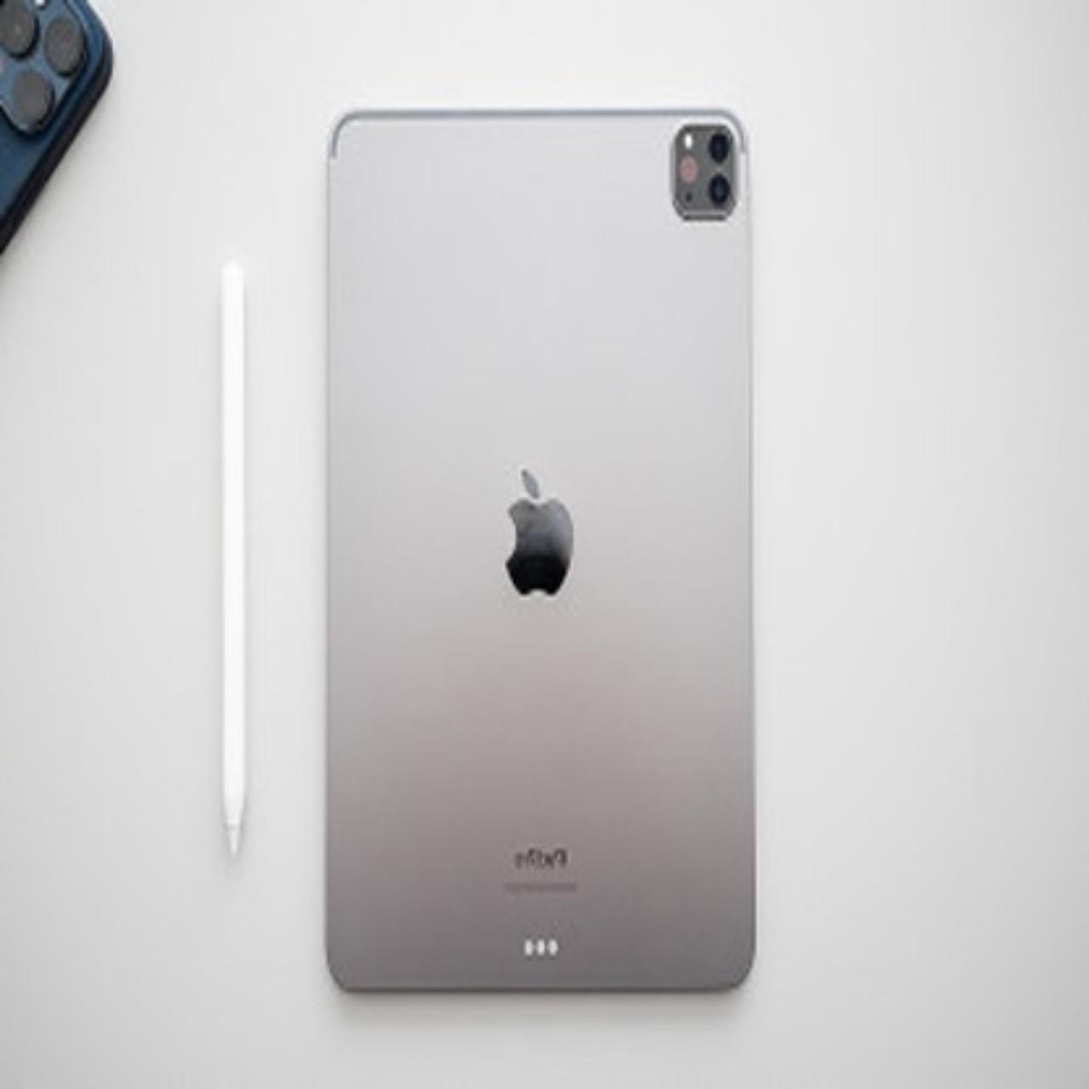Tablet_PC: (307, 100, 762, 1010)
